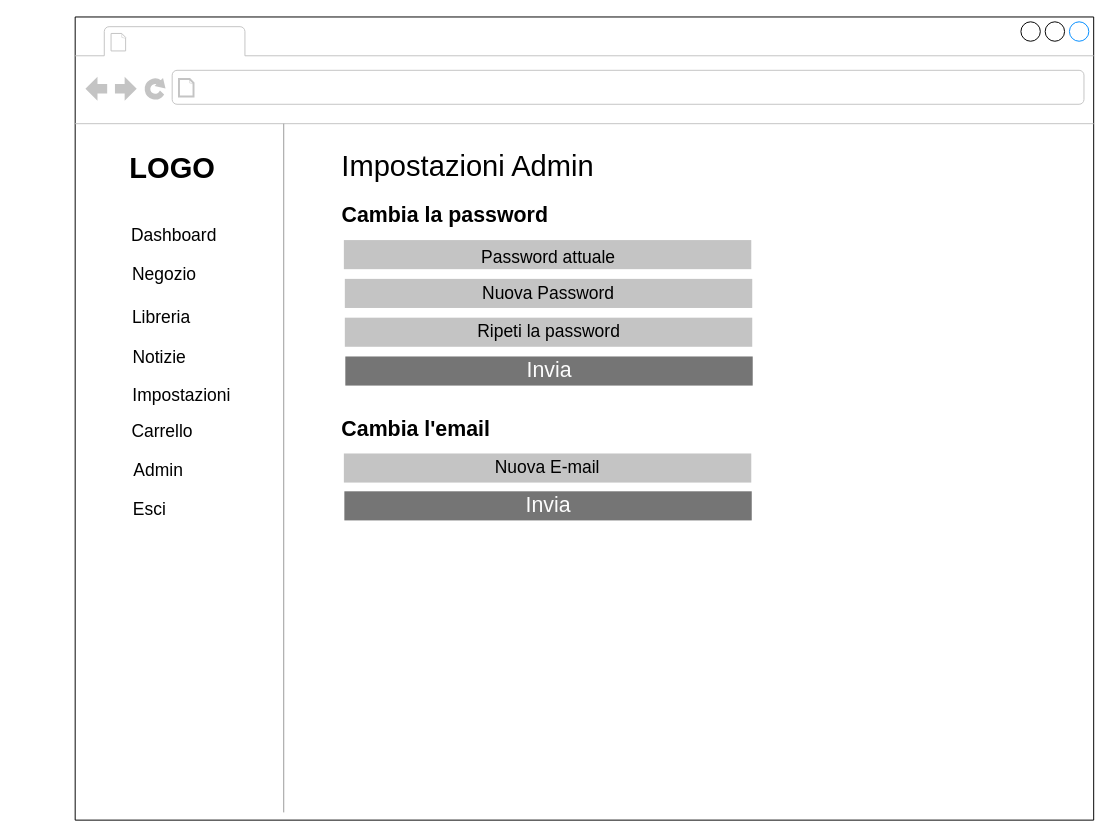
This 1111x837 diagram has some shape labels left out. Here are the shapes that lost their labels. From the top down, the centre of each, then its label:
At [186,41]: "Page 1".
At [322,87]: "https://www.default.com".
